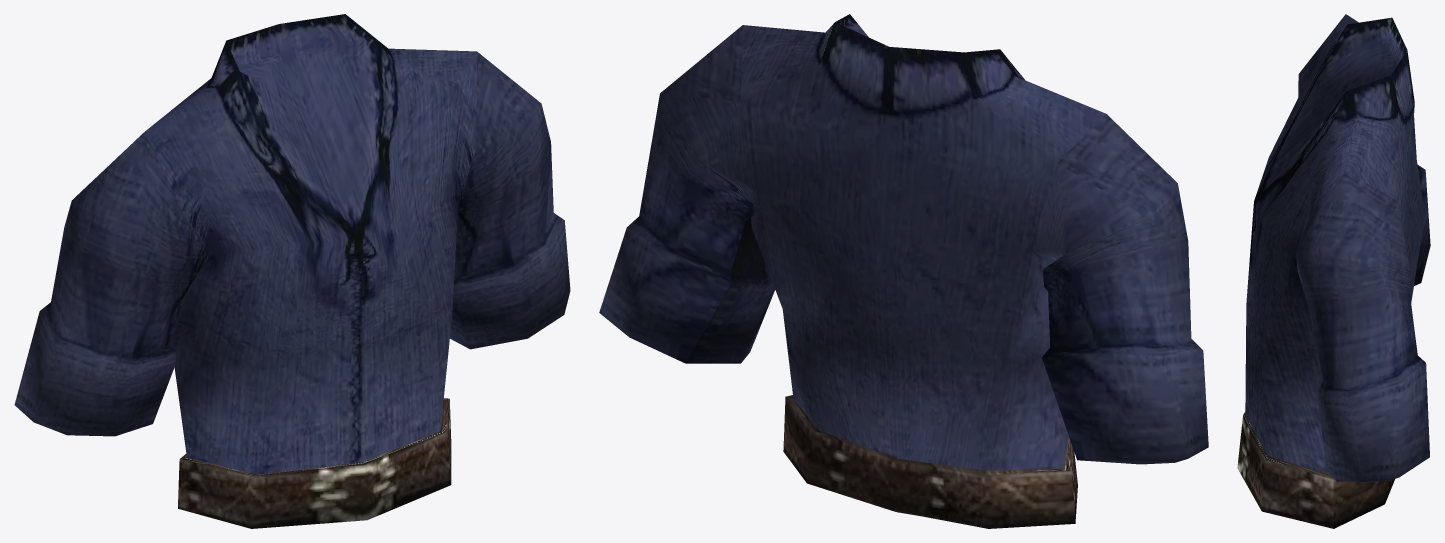
File: STATIC_GS_KOSZULA_NAVY.glb
The picture shows the model from 3 angles, left to right: view 1: azimuth 30°, elevation 25°; view 2: azimuth 150°, elevation 25°; view 3: azimuth 270°, elevation 25°; orthographic projection. The views are drawn at different scales.
Parts seen in each view (by area): view 1: Mesh; view 2: Mesh; view 3: Mesh.
Boxes of the visible parts, bbox=[...] form: Mesh: bbox=[14, 14, 570, 528]; Mesh: bbox=[599, 14, 1208, 528]; Mesh: bbox=[1237, 14, 1430, 528].
Bounding box in the file's own units: 0.6861 × 0.5328 × 0.221.
2 materials, 2 textured.
